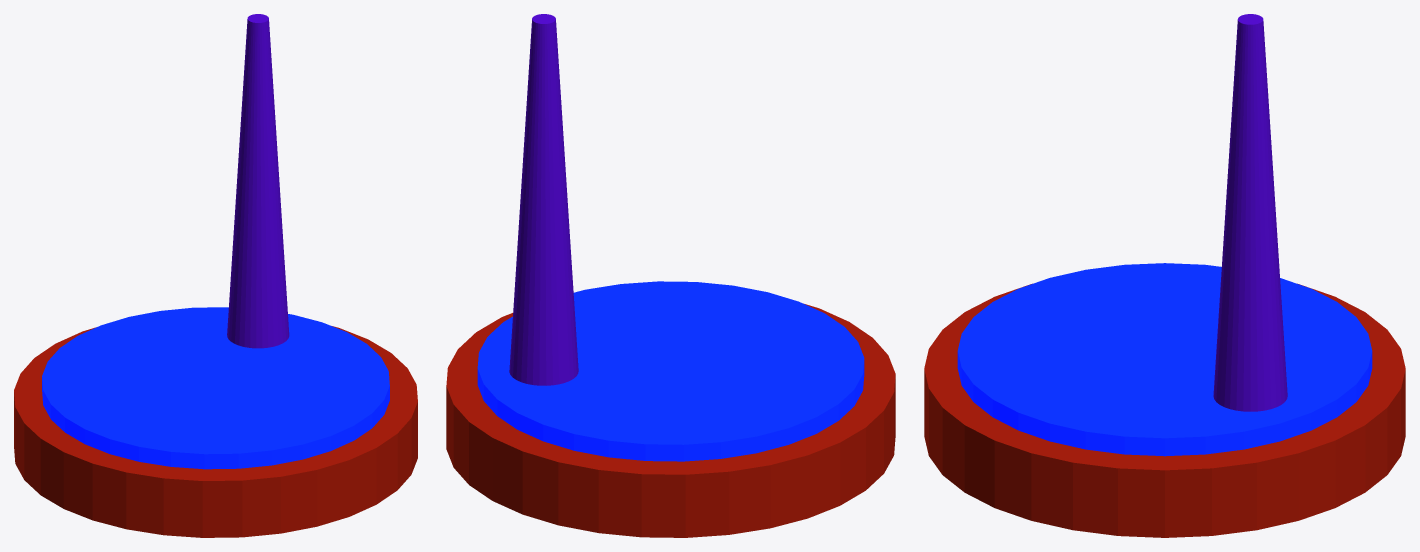
The model's file is SAVE_POINT.gltf.
3 renders of one model, left to right at view 1: azimuth 30°, elevation 25°; view 2: azimuth 150°, elevation 25°; view 3: azimuth 270°, elevation 25°, orthographic. The views are drawn at different scales.
Visible parts, largest first — view 1: Cylinder; view 2: Cylinder; view 3: Cylinder.
Part boxes in pixels (left/top/right/bottom): Cylinder: left=14, top=14, right=417, bottom=537; Cylinder: left=446, top=14, right=895, bottom=537; Cylinder: left=924, top=14, right=1405, bottom=537.
Size of the model in its own units: 2 by 2.12 by 2.
